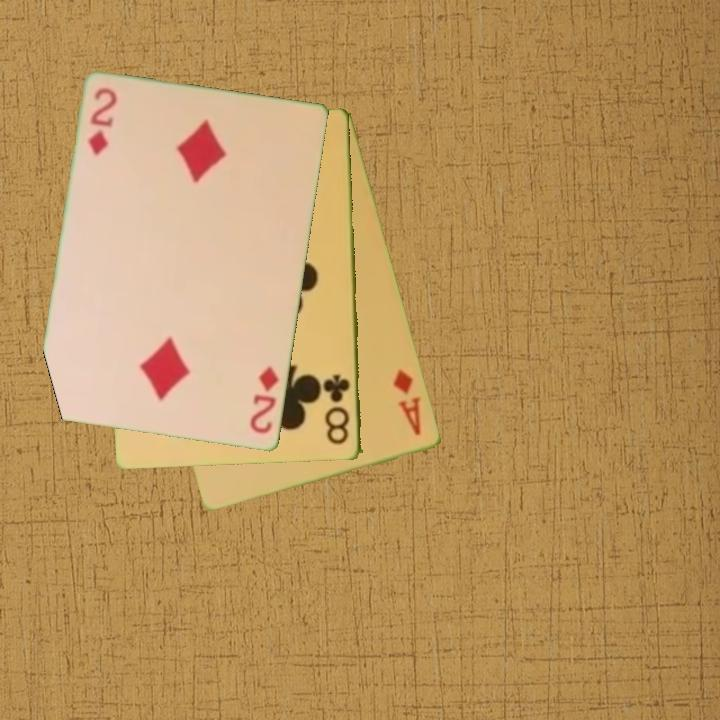2d: (85, 84, 120, 159), (247, 363, 282, 437)
8c: (322, 371, 353, 447)
Ad: (390, 366, 425, 439)
